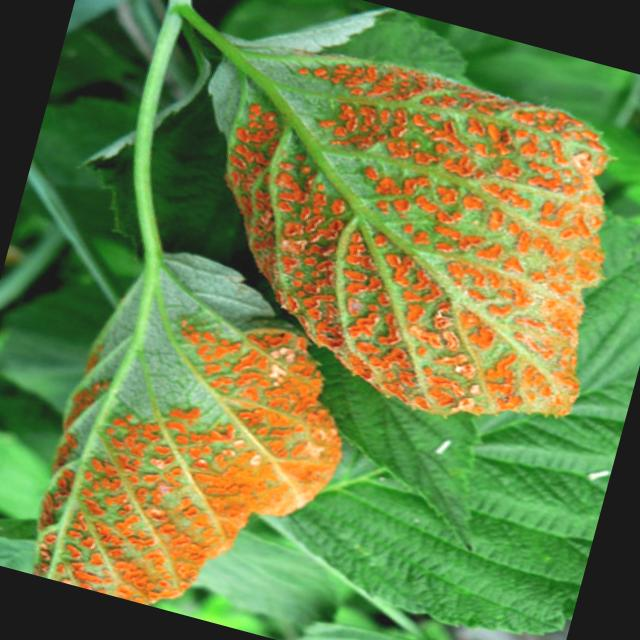leaf_rust: (216, 38, 608, 416), (35, 253, 341, 606)
